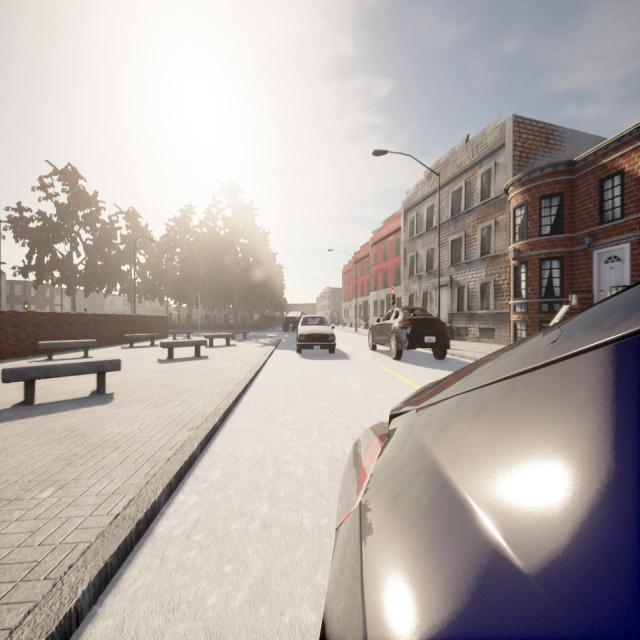Traffic_Signs: (332, 310, 336, 317)
Vehicle: (321, 283, 640, 640), (368, 308, 451, 360), (295, 315, 336, 354), (282, 311, 307, 332)
traffic_light: (392, 289, 396, 305), (196, 297, 200, 309), (23, 301, 28, 310)
